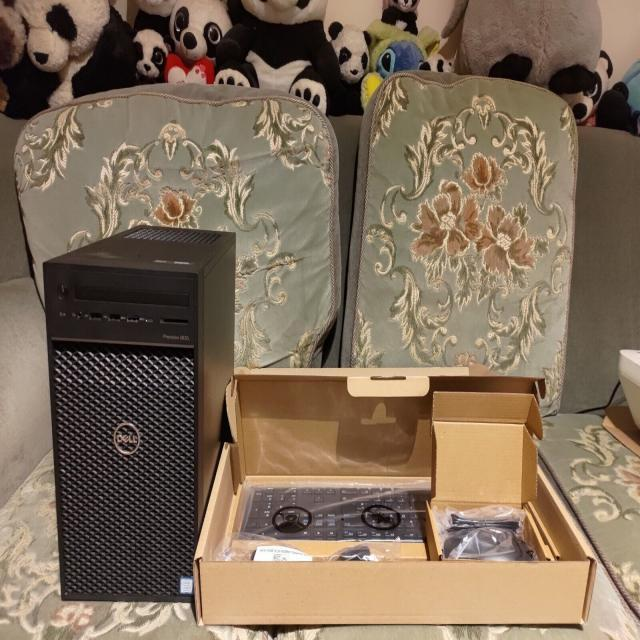Desktop-PC: (29, 215, 208, 608)
